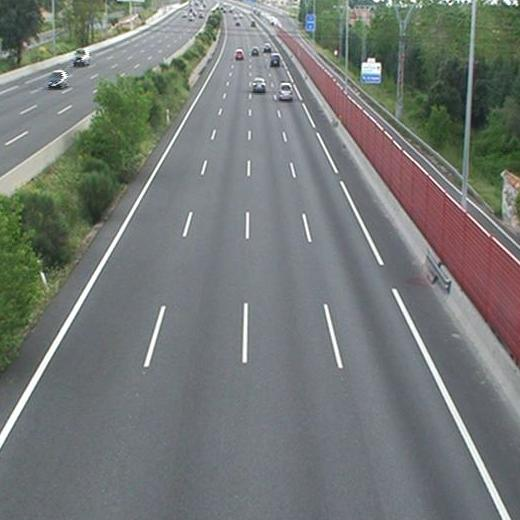car: (278, 83, 294, 101), (252, 78, 266, 92), (270, 54, 281, 66), (235, 50, 245, 59), (263, 42, 271, 52), (250, 48, 258, 55)
